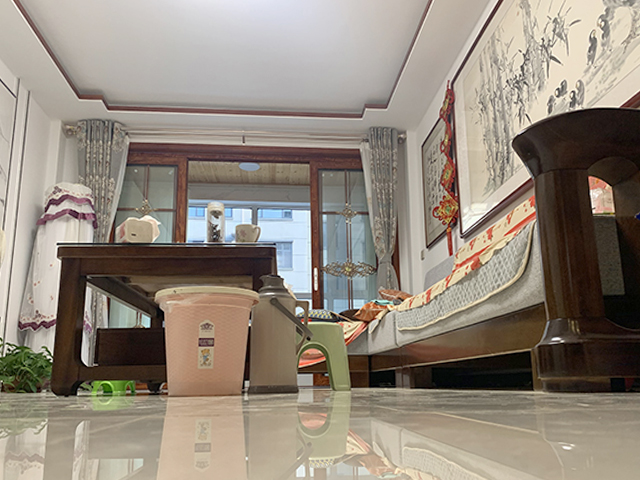curtain: (77, 118, 127, 327), (363, 127, 401, 294)
sofa: (344, 92, 640, 394)
stool: (300, 320, 352, 390), (89, 379, 137, 399)
table: (51, 240, 280, 397)
trashcan: (155, 285, 261, 398)
